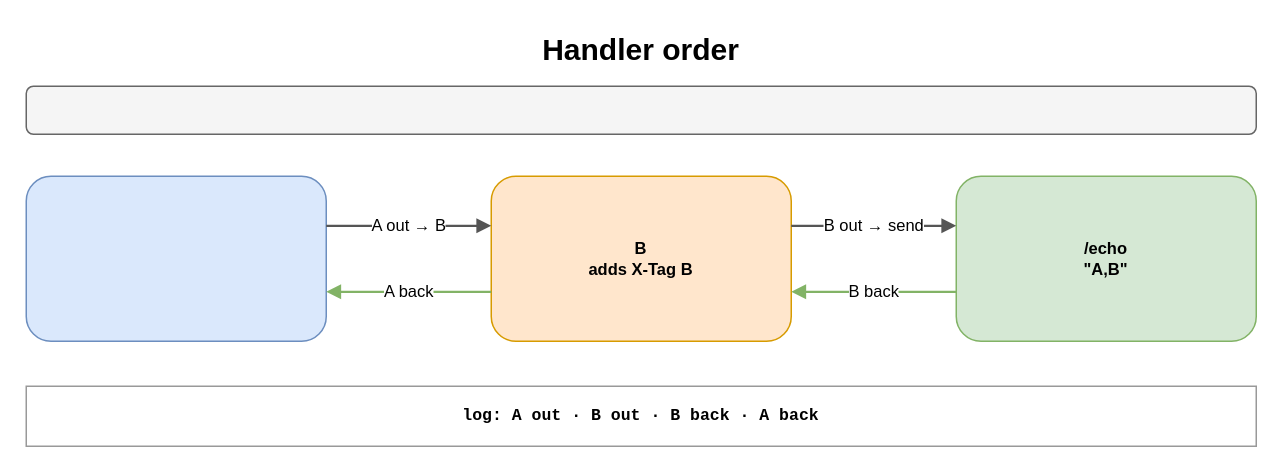
Image size: 1283x473. Some labels were removed from this diagram. The shapes that lost their labels are listed below. From the top down, each one's centre as x and y in pixels, then its label:
At (x=640, y=109): "First added is outermost, like middleware".
At (x=175, y=258): "A adds X-Tag A".
